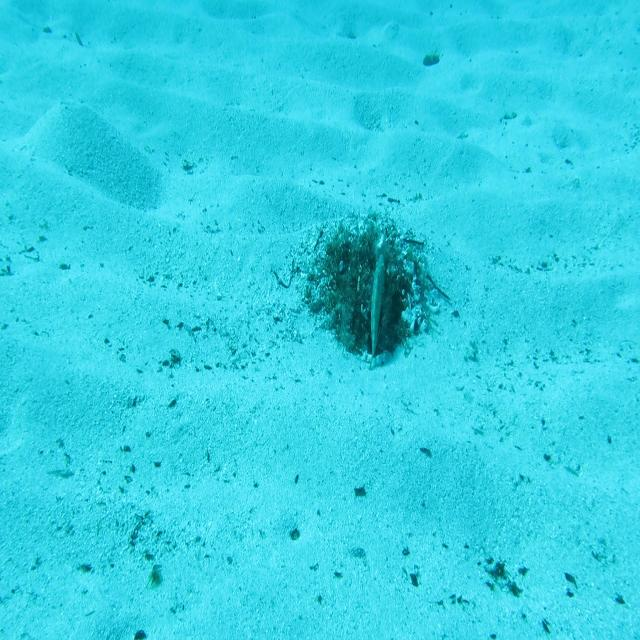FAN: (366, 240, 389, 374)
nest: (314, 212, 453, 374)
